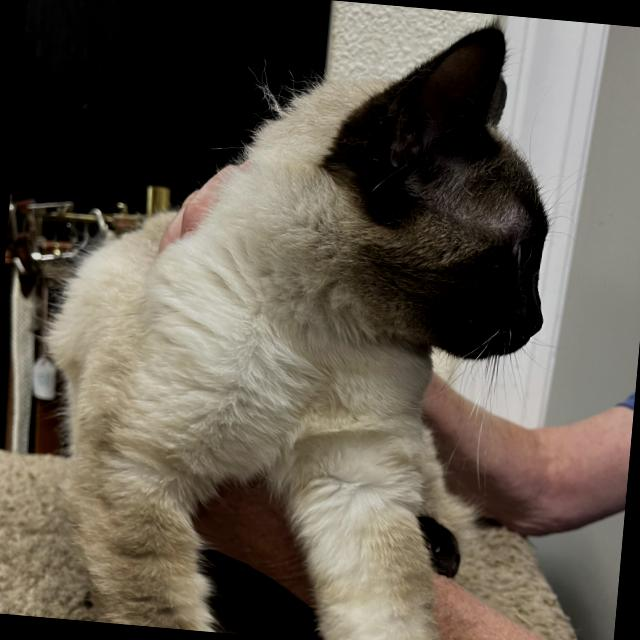siamese_cat: (227, 3, 598, 384)
